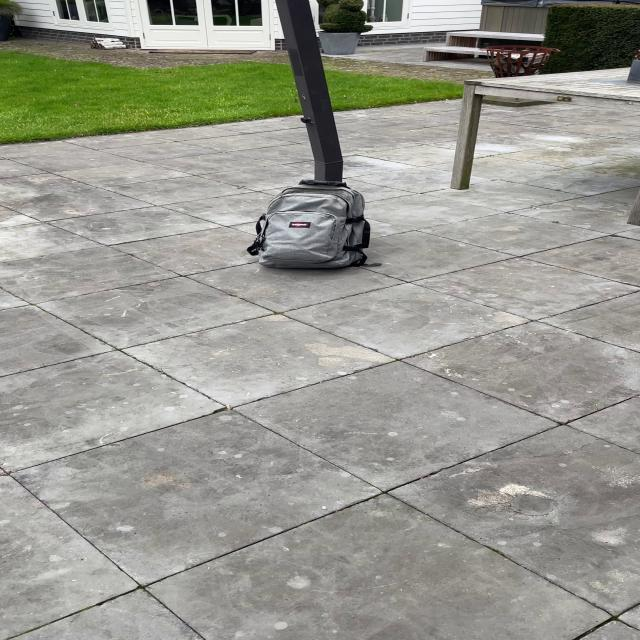backpack: (246, 176, 374, 274)
